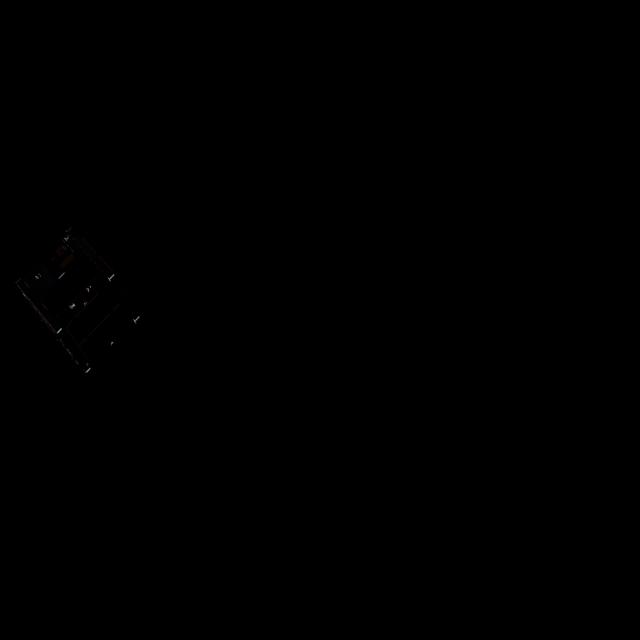satellite: (14, 220, 154, 380)
